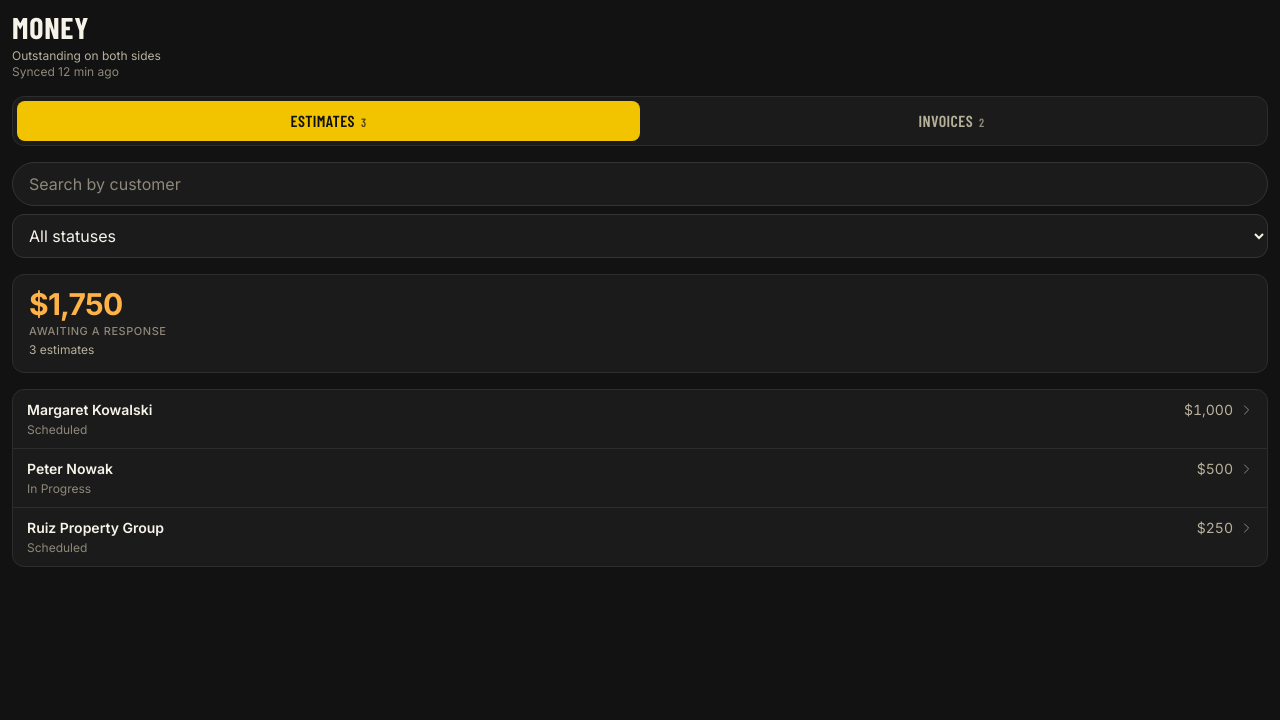
Test: MoneyPage filtering › keeps only late invoices behind the overdue toggle
Expected: the text "Margaret Kowalski" is shown, [27,400,152,420]
What coordinates should you click on to do the following:
click the button "Invoices2"
I would click on:
 (952, 121)
Its box is [640,101,1263,141].
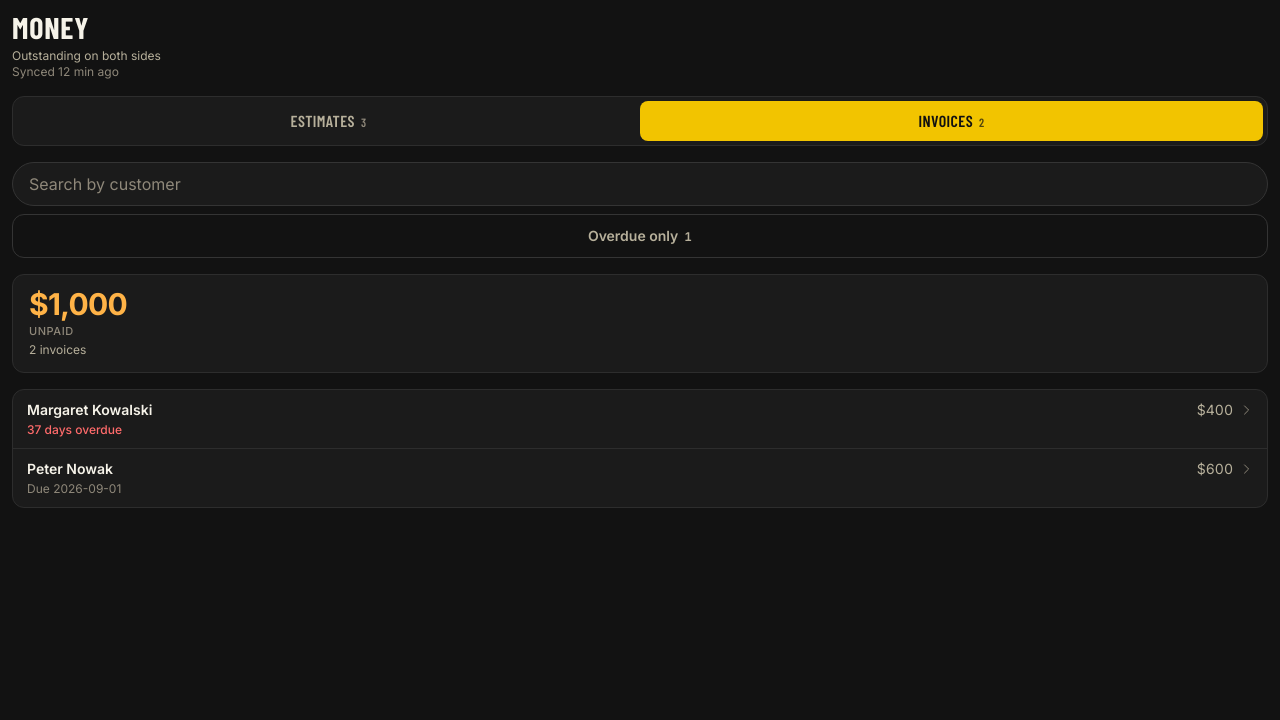
Expected: the button "Overdue only1" is shown
What coordinates should you click on to do the following:
click the button "Overdue only1"
I would click on:
 (640, 236)
Its box is [12,214,1268,258].
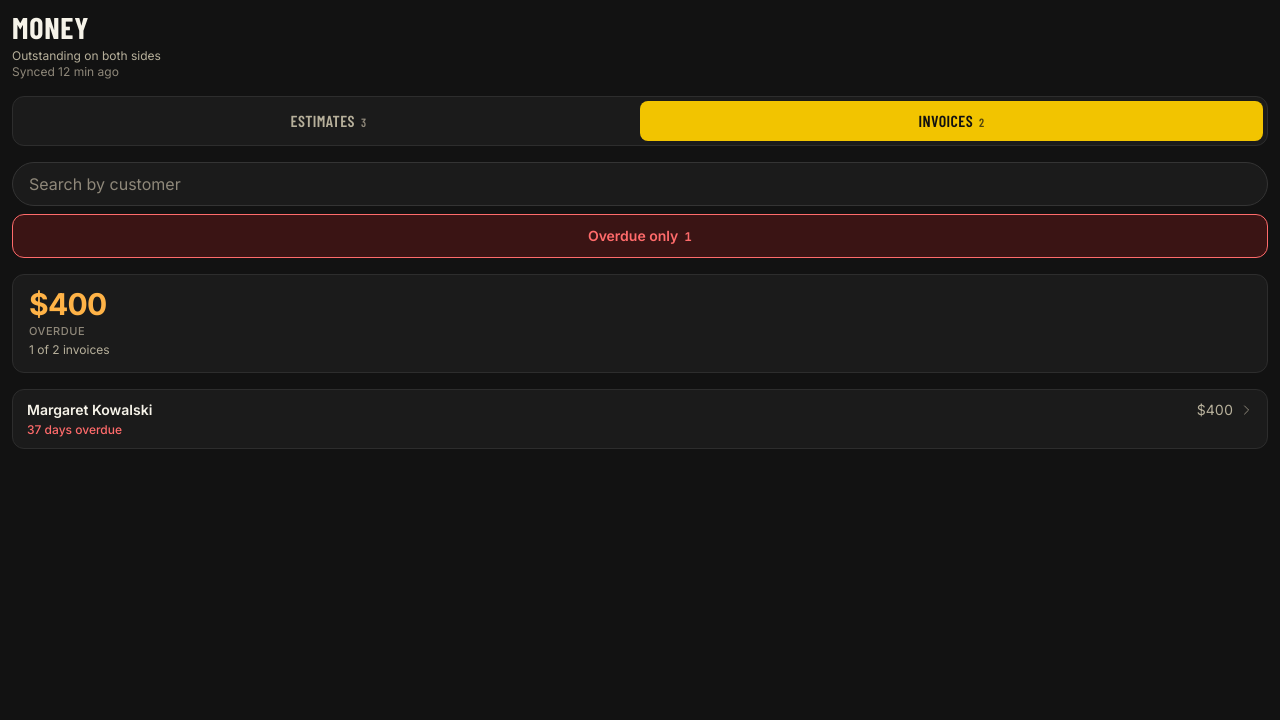
Expected: the text "Margaret Kowalski" is shown, [27,400,152,420]
Expected: the link "Peter Nowak" is gone
Expected: the text "Overdue" is shown, [29,324,85,338]
